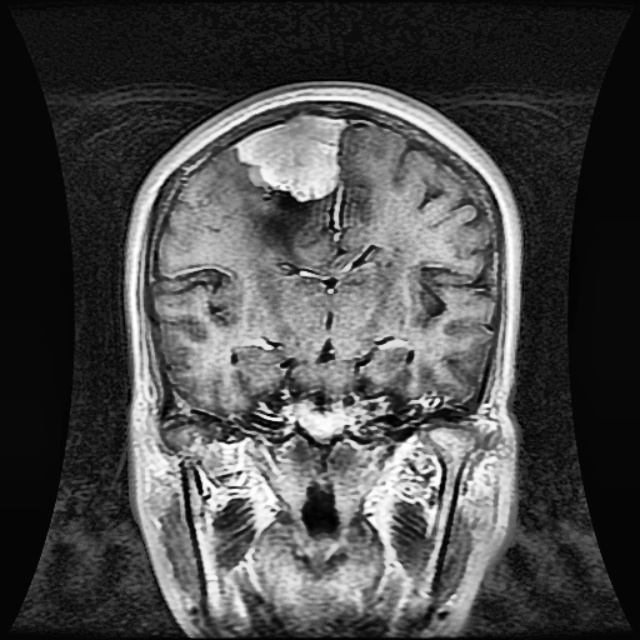Glioma: (235, 115, 345, 203)
